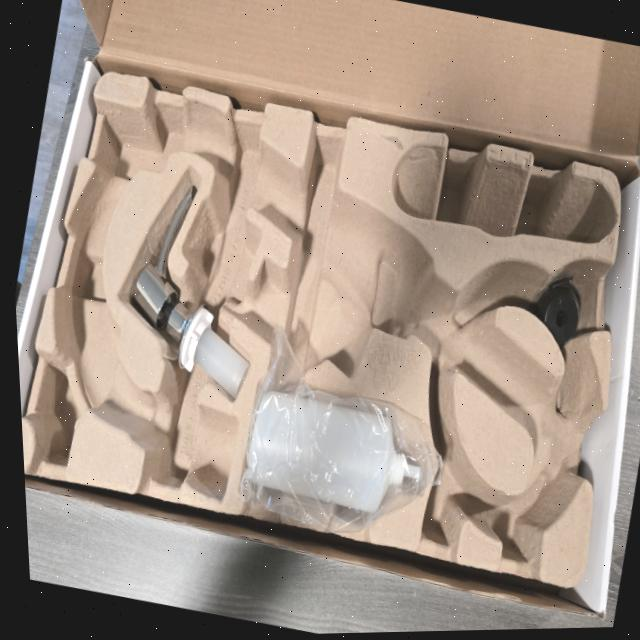1m: (61, 107, 595, 497)
2: (128, 186, 248, 397)
3: (243, 388, 424, 515)
4m: (391, 144, 615, 244)
5: (534, 276, 579, 347)
6m: (486, 473, 559, 556)
7m: (421, 422, 488, 549)
